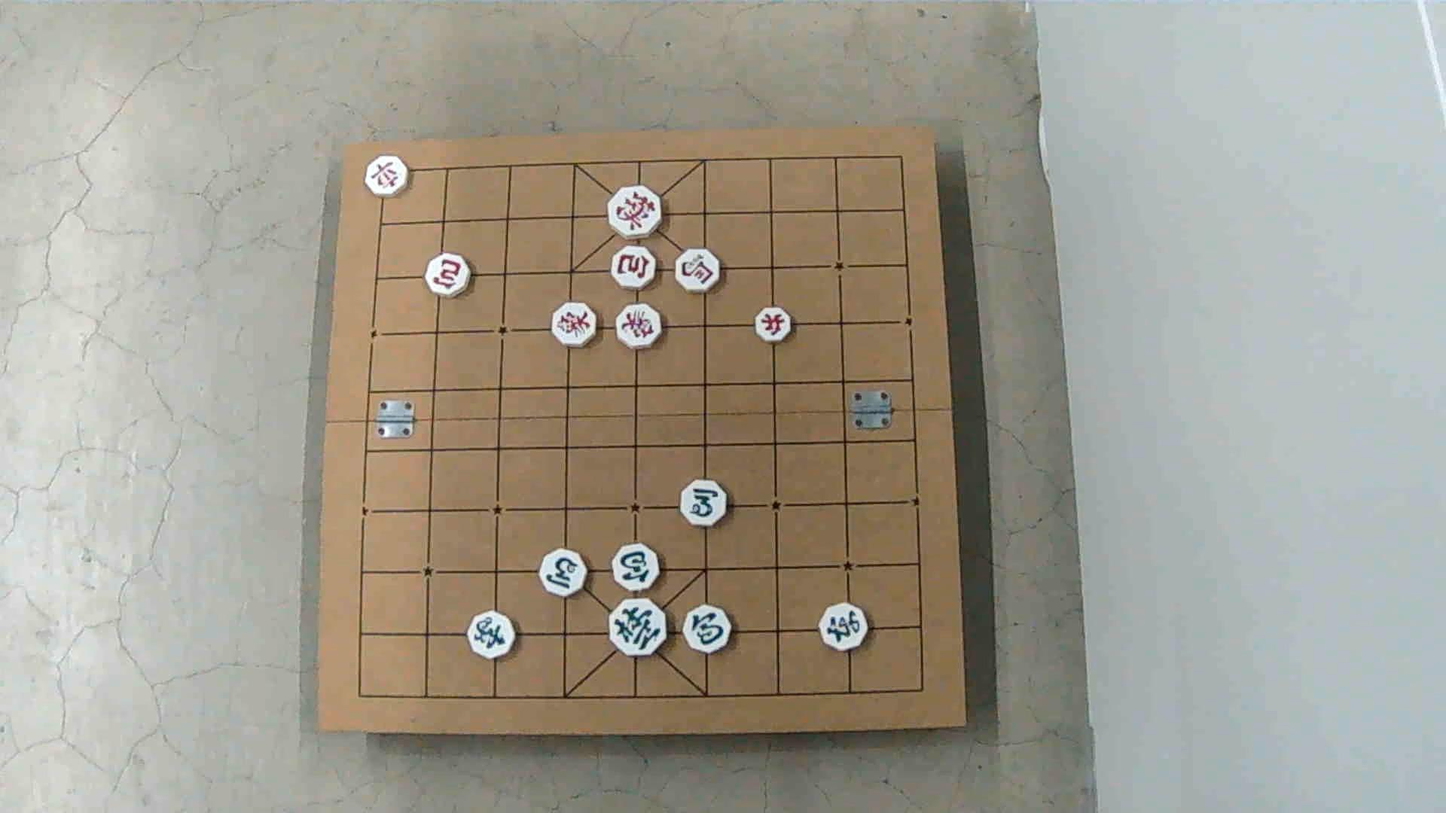cha_green: (819, 604, 866, 651)
cha_red: (365, 157, 409, 196)
jol_red: (755, 307, 792, 343)
ma_green: (540, 549, 589, 596), (682, 481, 728, 528)
ma_red: (676, 248, 721, 291)
po_green: (685, 607, 733, 655), (613, 543, 661, 591)
po_red: (612, 247, 659, 291), (428, 253, 473, 296)
sang_green: (468, 613, 516, 659)
sang_red: (618, 304, 664, 349), (551, 302, 596, 346)
wang_green: (610, 598, 669, 656)
wang_red: (609, 187, 664, 239)
